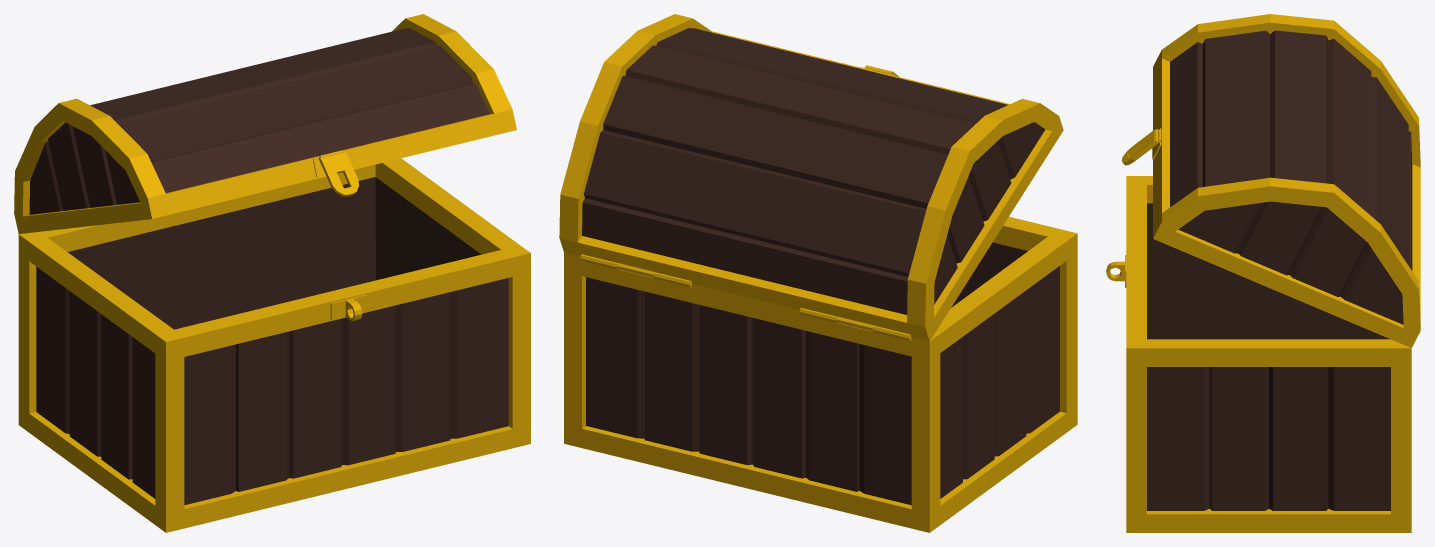
Rendered from chest.fbx.
3 renders of one model, left to right at view 1: azimuth 30°, elevation 25°; view 2: azimuth 150°, elevation 25°; view 3: azimuth 270°, elevation 25°, orthographic. The views are drawn at different scales.
Parts seen in each view (by area): view 1: Treasure Chest, Lid, Lock Flap; view 2: Lid, Treasure Chest; view 3: Treasure Chest, Lid, Lock Flap.
Part boxes in pixels (x1,y1,x2,y2): Treasure Chest: (18, 158, 530, 532); Lid: (14, 14, 516, 233); Lock Flap: (318, 151, 359, 196); Lid: (559, 14, 1063, 341); Treasure Chest: (564, 216, 1077, 532); Treasure Chest: (1106, 176, 1411, 532); Lid: (1153, 14, 1420, 347); Lock Flap: (1122, 129, 1161, 165).
Bounding box in the file's own units: 200 × 188 × 154.
